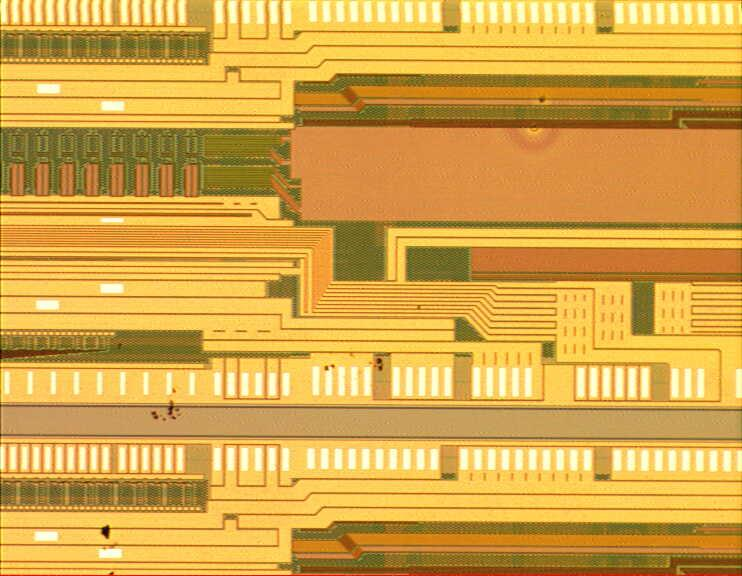PO CONTAMINATION: (147, 90, 554, 480)
